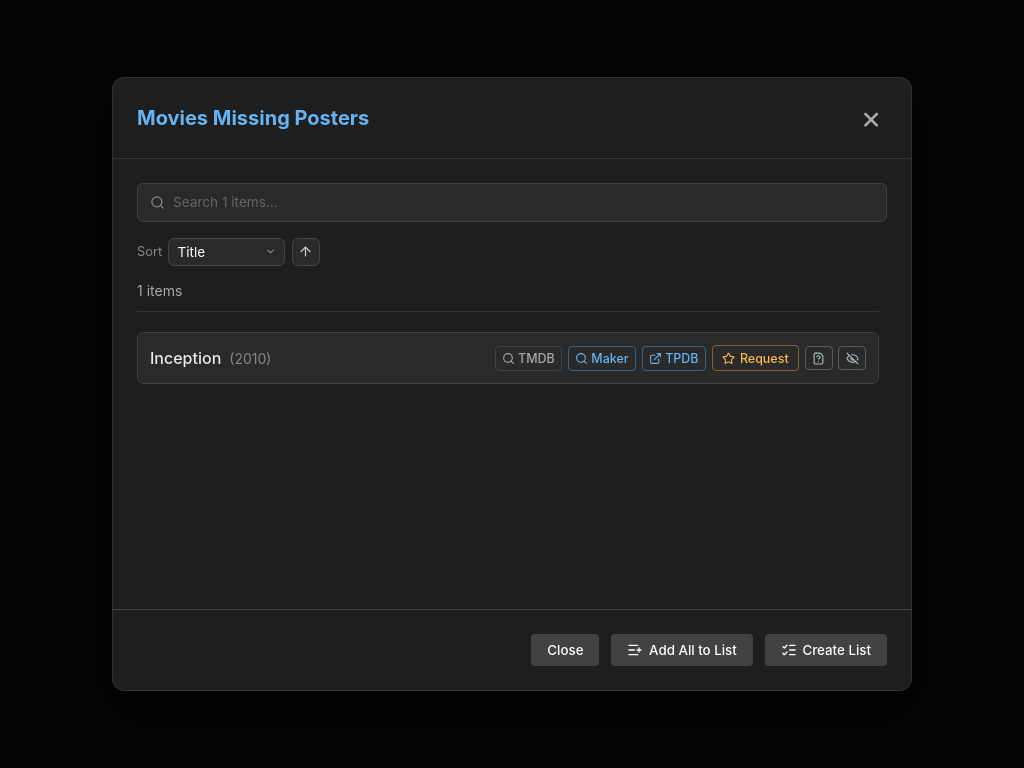
Test: UnmatchedItemsModal ignore button › adds the item to the ignore list and hides its row
Expected: the text "Inception" is shown, [150,348,221,368]
Click the button titled "Ignore this item". click: click(852, 358)
box: [838,346,866,370]
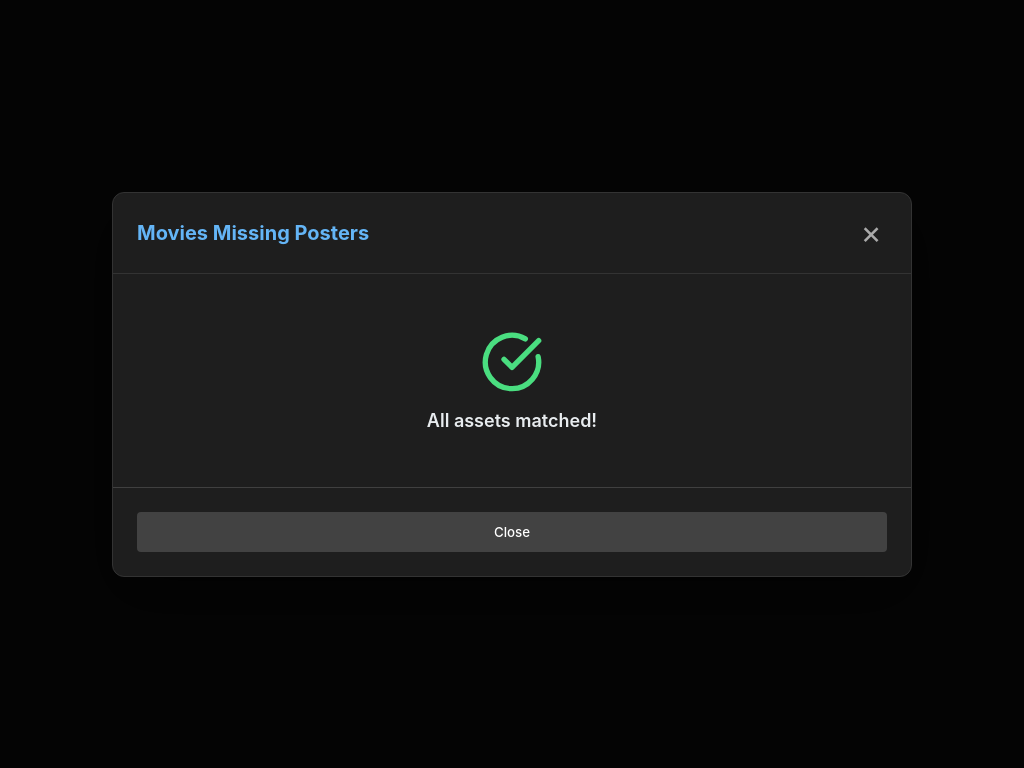
Expected: the text "Inception" is gone
